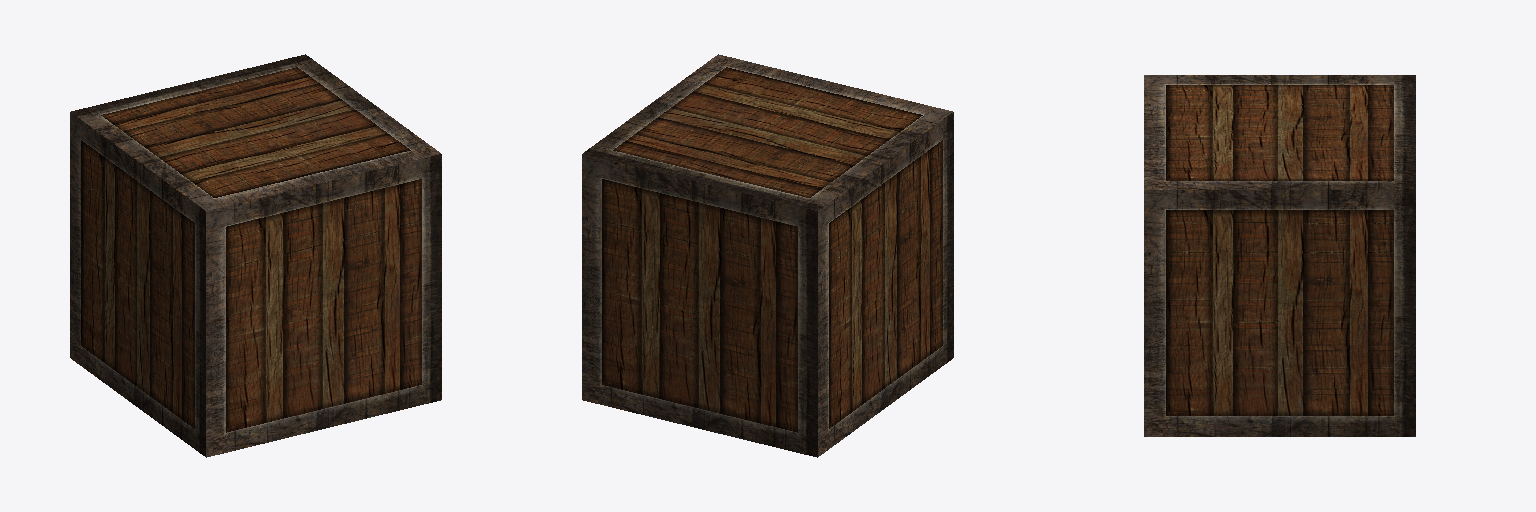
3 views of the same model, side by side, from view 1: azimuth 30°, elevation 25°; view 2: azimuth 150°, elevation 25°; view 3: azimuth 270°, elevation 25° (orthographic).
Parts seen in each view (by area): view 1: Cube.001; view 2: Cube.001; view 3: Cube.001.
Boxes of the visible parts, x1,y1,x2,y2 form: Cube.001: [70, 54, 441, 457]; Cube.001: [582, 54, 953, 457]; Cube.001: [1144, 75, 1415, 436].
Size of the model in its own units: 2 by 2 by 2.
1 materials, 1 textured.